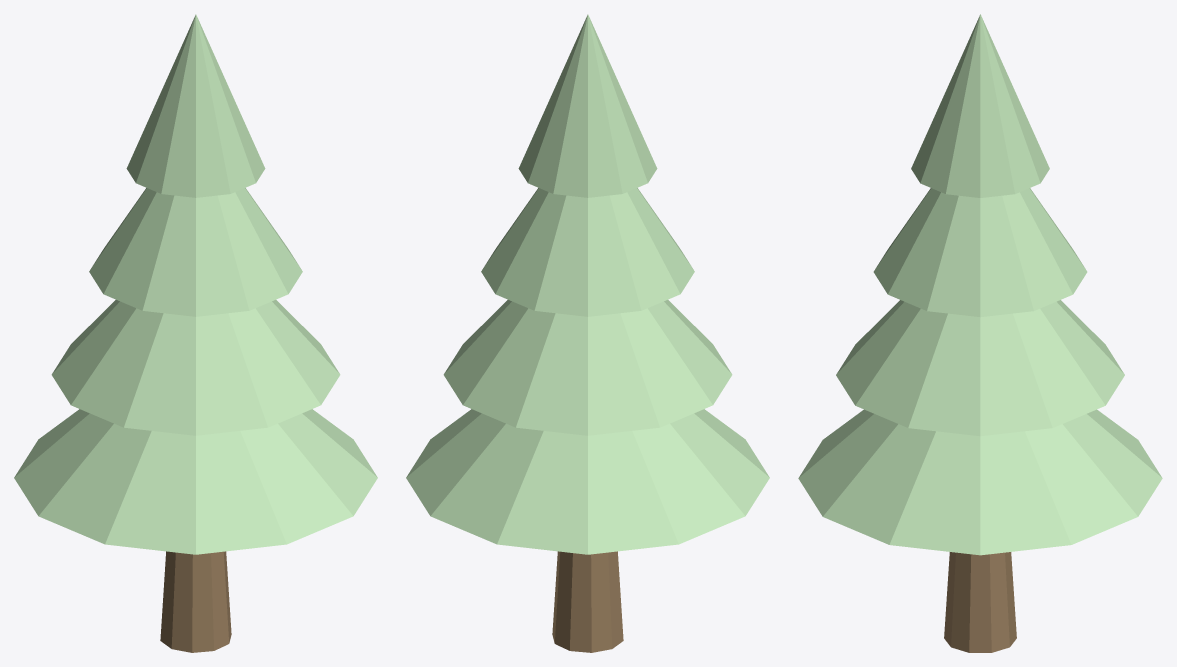
Rendered from tree_pine.fbx.
The picture shows the model from 3 angles, left to right: view 1: azimuth 30°, elevation 25°; view 2: azimuth 150°, elevation 25°; view 3: azimuth 270°, elevation 25°; orthographic projection.
Visible parts, largest first — view 1: Layer0, Layer1, Layer2, Layer3, Trunk; view 2: Layer0, Layer1, Layer2, Layer3, Trunk; view 3: Layer0, Layer1, Layer2, Layer3, Trunk.
Boxes of the visible parts, box(x1,y1,x2,y2) form: Layer0: box(14, 409, 377, 554); Layer1: box(51, 300, 340, 435); Layer2: box(89, 188, 302, 316); Layer3: box(126, 14, 265, 197); Trunk: box(160, 551, 231, 652); Layer0: box(406, 409, 769, 554); Layer1: box(443, 300, 732, 435); Layer2: box(481, 188, 694, 316); Layer3: box(518, 14, 657, 197); Trunk: box(552, 551, 623, 652); Layer0: box(798, 409, 1162, 555); Layer1: box(836, 300, 1124, 436); Layer2: box(873, 188, 1087, 317); Layer3: box(911, 14, 1049, 197); Trunk: box(944, 552, 1016, 652).
Size of the model in its own units: 3.2 by 6.05 by 3.2.
